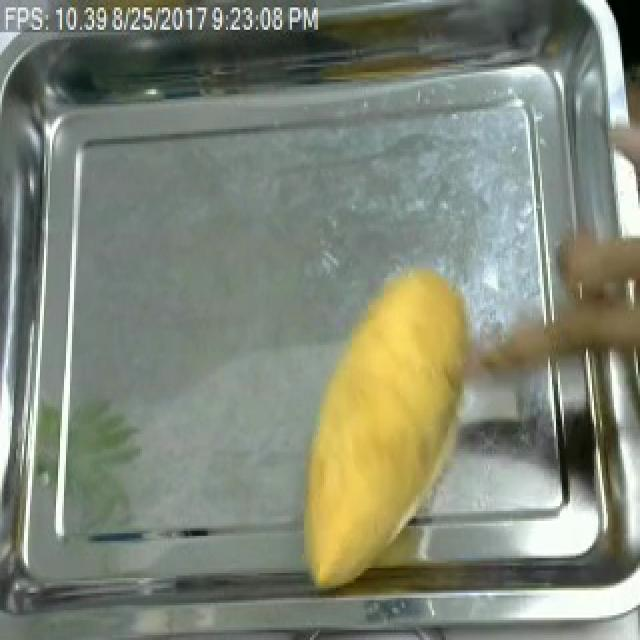fruit: (288, 253, 482, 600)
